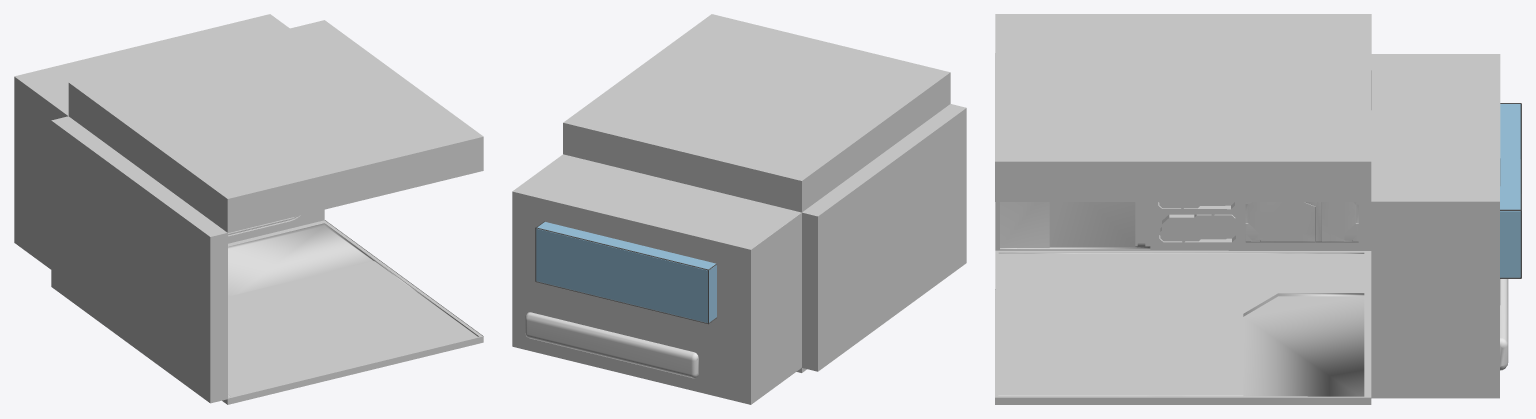
File: Scifi Room.fbx
The picture shows the model from 3 angles, left to right: view 1: azimuth 30°, elevation 25°; view 2: azimuth 150°, elevation 25°; view 3: azimuth 270°, elevation 25°; orthographic projection. The views are drawn at different scales.
Parts seen in each view (by area): view 1: Ceiling, Wall, Floor; view 2: Wall, Ceiling, Window, Bed.frozen; view 3: Ceiling, Wall, Floor, Window, Bed.frozen.
Boxes of the visible parts, x1=… form: Ceiling: x1=68, y1=20, x2=483, y2=232; Wall: x1=14, y1=14, x2=324, y2=403; Floor: x1=222, y1=220, x2=483, y2=404; Wall: x1=512, y1=104, x2=966, y2=404; Ceiling: x1=563, y1=14, x2=950, y2=212; Window: x1=535, y1=221, x2=717, y2=324; Bed.frozen: x1=525, y1=312, x2=698, y2=378; Ceiling: x1=995, y1=14, x2=1371, y2=201; Wall: x1=995, y1=54, x2=1500, y2=398; Floor: x1=995, y1=250, x2=1371, y2=404; Window: x1=1500, y1=103, x2=1521, y2=278; Bed.frozen: x1=1500, y1=279, x2=1508, y2=370.
Bounding box in the file's own units: 623 × 448 × 880.
